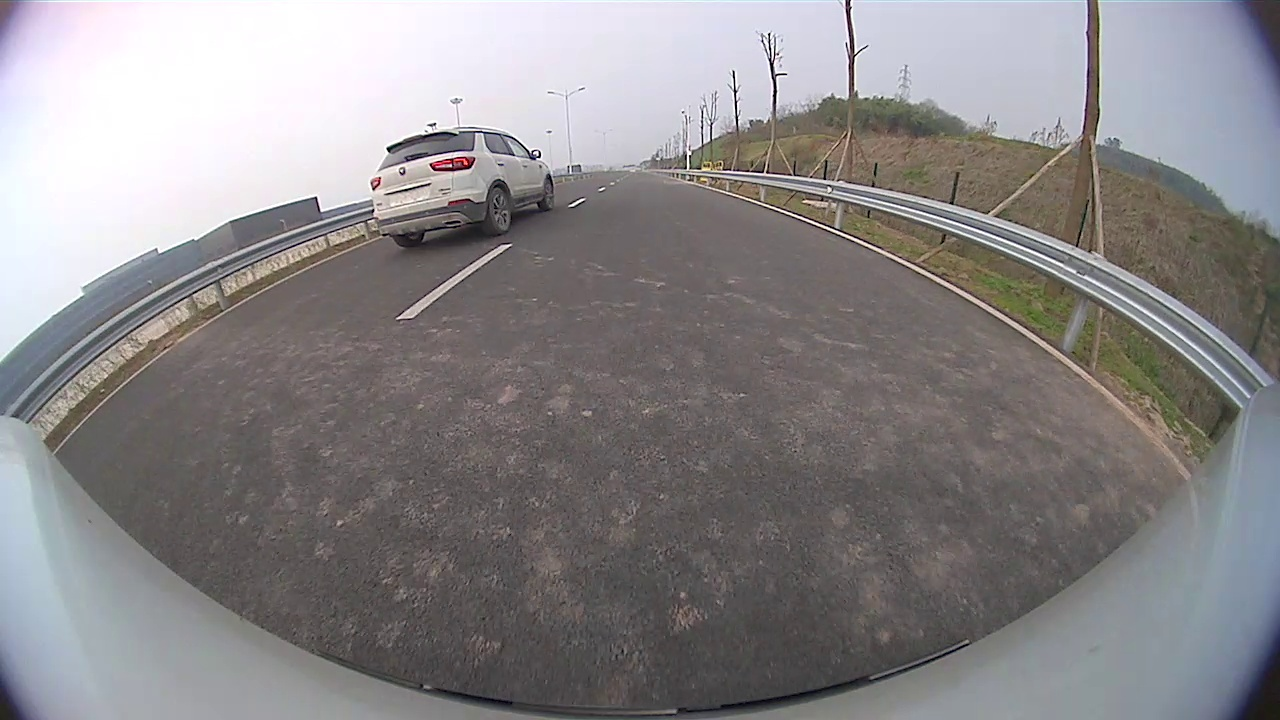car: (368, 125, 557, 250)
front: (541, 178, 556, 211)
rear: (486, 186, 513, 236)
